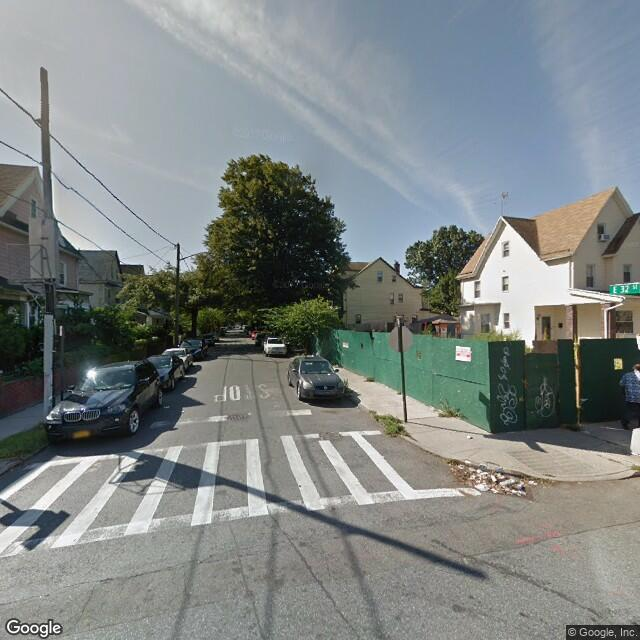litter: (464, 468, 494, 479), (505, 486, 526, 500), (475, 481, 488, 490), (489, 472, 498, 485), (460, 454, 472, 463), (526, 479, 541, 485), (492, 488, 499, 497), (467, 432, 474, 440), (504, 477, 515, 481)
